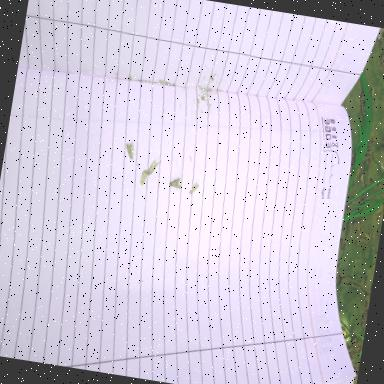pbw: (146, 160, 158, 176), (124, 142, 136, 158), (168, 176, 183, 188), (140, 168, 149, 185), (188, 182, 199, 195)
